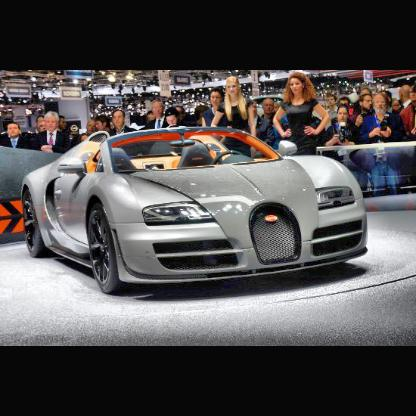Bugatti Veyron 16-4 Convertible 2009: (24, 133, 371, 295)
